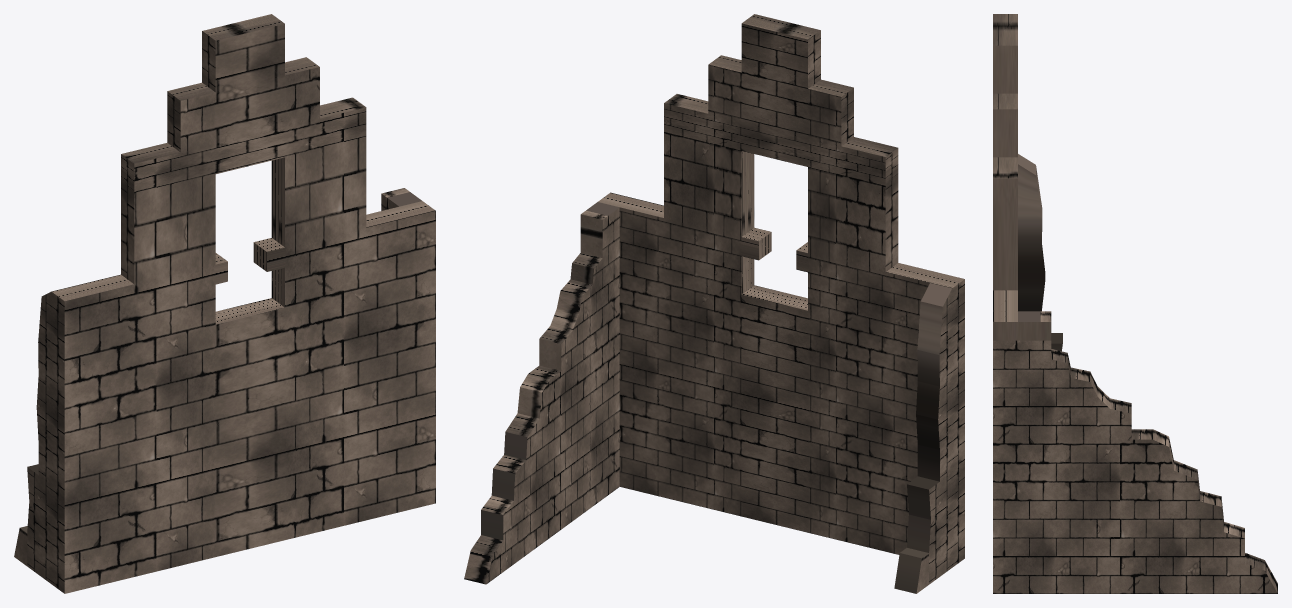
The model's file is ruin_wall.gltf.
3 renders of one model, left to right at view 1: azimuth 30°, elevation 25°; view 2: azimuth 150°, elevation 25°; view 3: azimuth 270°, elevation 25°, orthographic. The views are drawn at different scales.
Visible parts, largest first — view 1: Cube; view 2: Cube; view 3: Cube.
Boxes of the visible parts, x1,y1,x2,y2 form: Cube: (14, 14, 435, 593); Cube: (464, 14, 964, 593); Cube: (993, 14, 1277, 593).
Size of the model in its own units: 96 by 128 by 68.67.
1 material, 1 textured.
